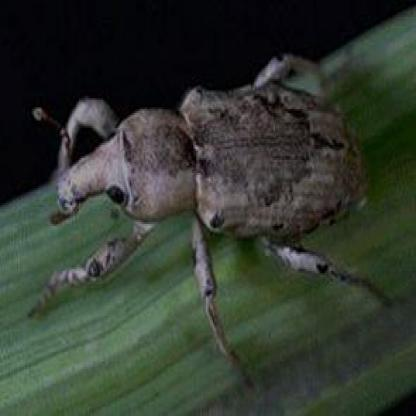rice-bug: (32, 52, 358, 328)
